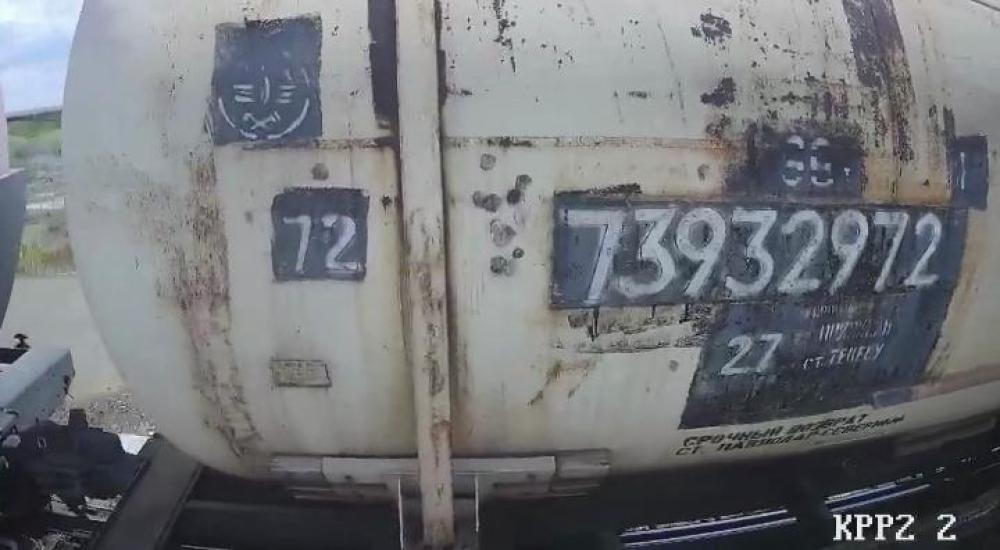Wagon-number: (563, 203, 946, 305)
